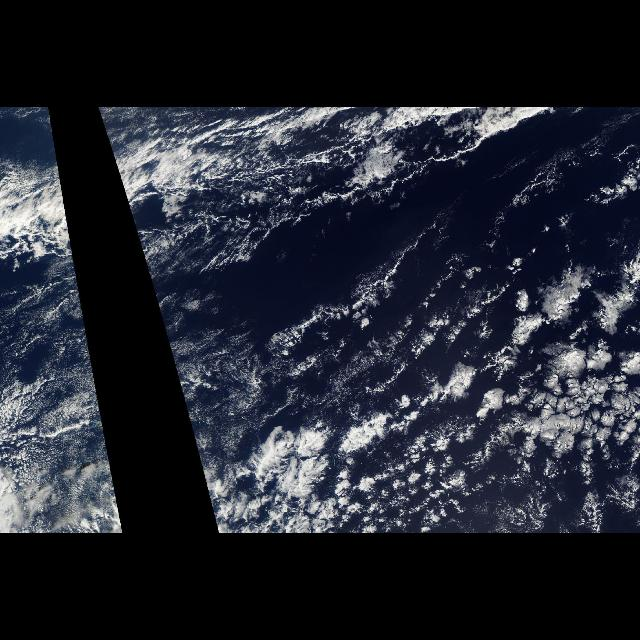Fish: (246, 386, 408, 516)
Flower: (278, 246, 640, 507)
